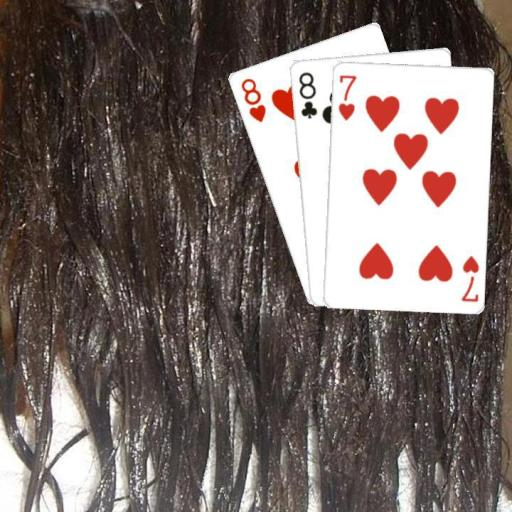7H: (335, 71, 358, 122), (458, 252, 481, 303)
8C: (295, 69, 319, 120)
8H: (237, 75, 267, 125)
